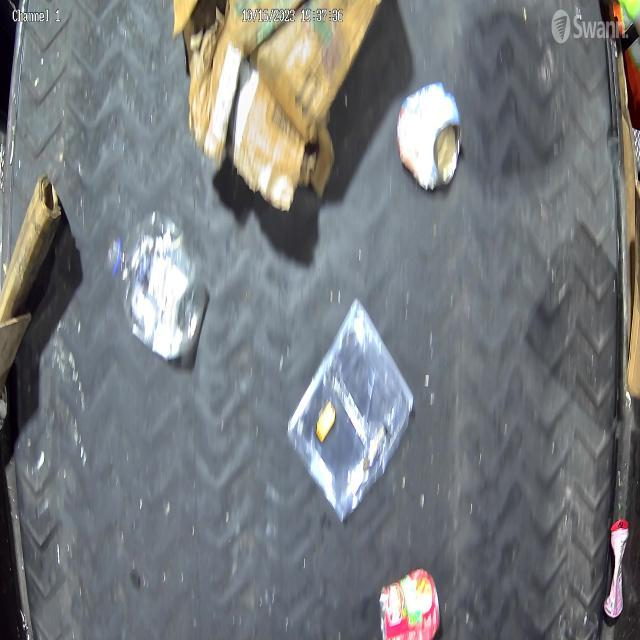can: (396, 78, 464, 194), (378, 566, 442, 640)
plastic_bottle: (106, 208, 207, 364)
